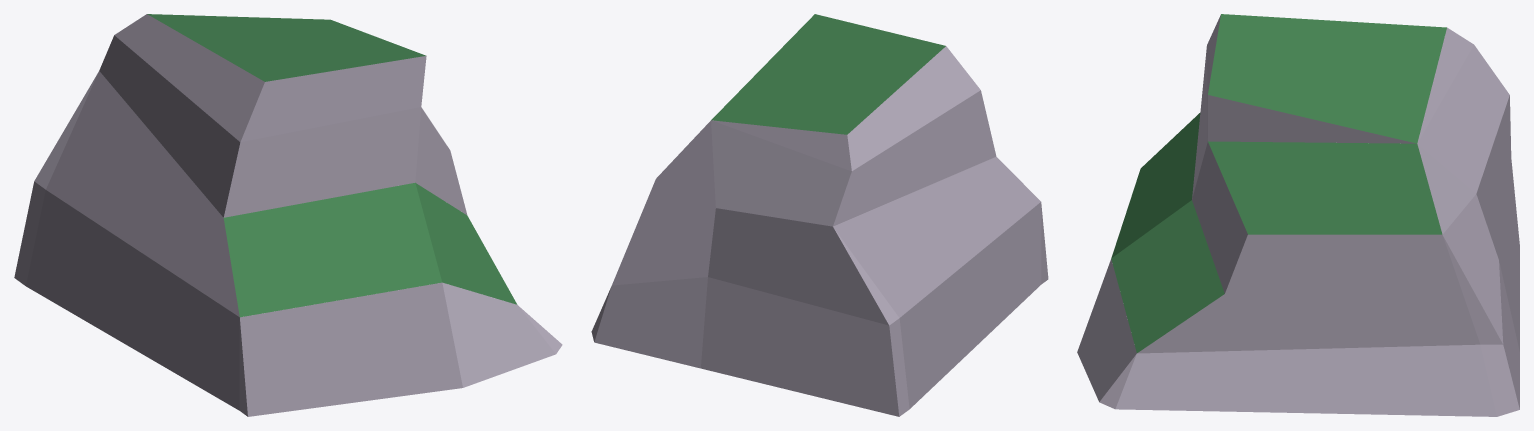
Rendered from Rock_Moss_3-optimized.glb.
3 renders of one model, left to right at view 1: azimuth 30°, elevation 25°; view 2: azimuth 150°, elevation 25°; view 3: azimuth 270°, elevation 25°, orthographic. The views are drawn at different scales.
Visible parts, largest first — view 1: Rock_Moss_3; view 2: Rock_Moss_3; view 3: Rock_Moss_3.
Boxes of the visible parts, <box> form: Rock_Moss_3: <box>14,14,562,416</box>; Rock_Moss_3: <box>591,14,1048,416</box>; Rock_Moss_3: <box>1077,14,1519,416</box>.
Size of the model in its own units: 0.7384 by 0.5567 by 0.8026.
